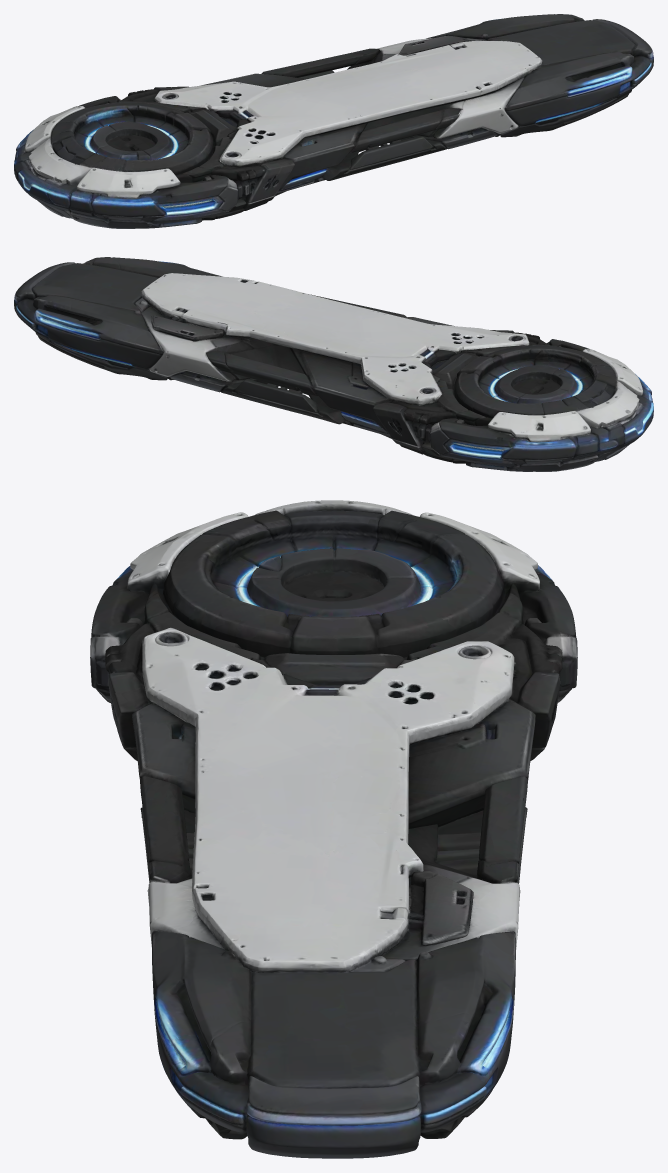
File: hoverboard.glb
The picture shows the model from 3 angles, top to bottom: view 1: azimuth 30°, elevation 25°; view 2: azimuth 150°, elevation 25°; view 3: azimuth 270°, elevation 25°; orthographic projection. The views are drawn at different scales.
Visible parts, largest first — view 1: futuristic spaceship 3d model; view 2: futuristic spaceship 3d model; view 3: futuristic spaceship 3d model.
Part boxes in pixels (x1,y1,x2,y2): futuristic spaceship 3d model: [14, 14, 653, 228]; futuristic spaceship 3d model: [14, 257, 653, 471]; futuristic spaceship 3d model: [90, 500, 577, 1158].
Size of the model in its own units: 0.9796 by 0.1027 by 0.3365.
Materials: 1 (1 with a texture image).
